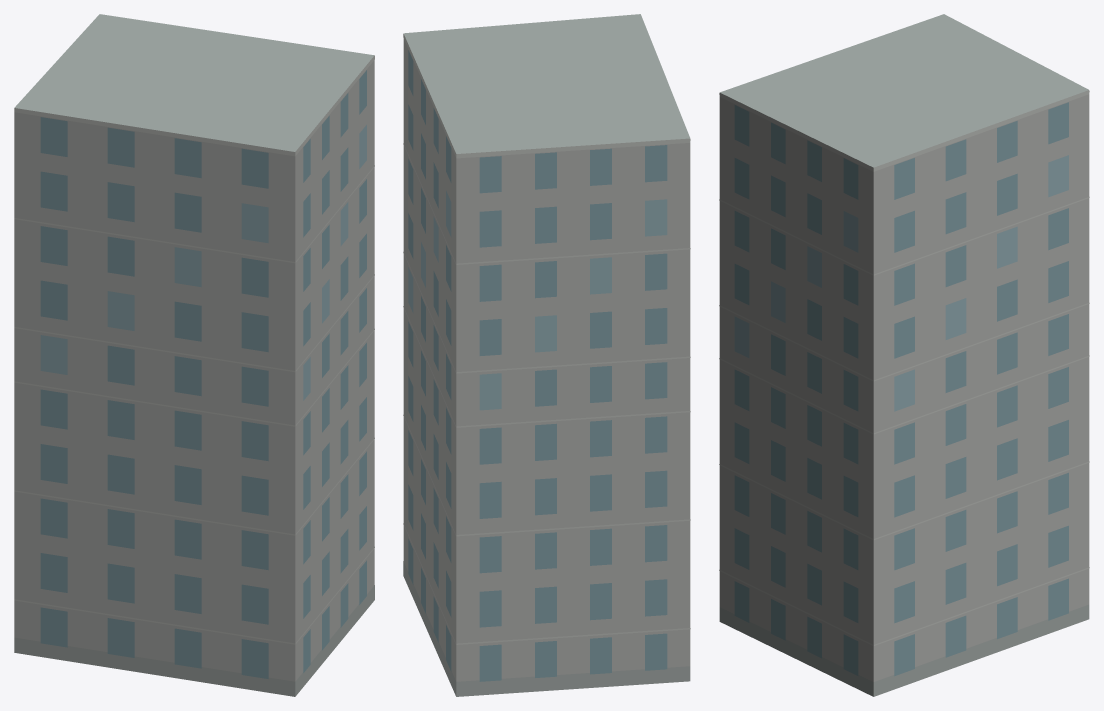
File: residential-e580abbd-2b59-40e0-ab97-8c15afb88cfb.glb
3 views of the same model, side by side, from view 1: azimuth 30°, elevation 25°; view 2: azimuth 150°, elevation 25°; view 3: azimuth 270°, elevation 25° (orthographic). The views are drawn at different scales.
Parts seen in each view (by area): view 1: residential-e580abbd-2b59-40e0-ab97-8c15afb88cfb.tmp; view 2: residential-e580abbd-2b59-40e0-ab97-8c15afb88cfb.tmp; view 3: residential-e580abbd-2b59-40e0-ab97-8c15afb88cfb.tmp.
Part boxes in pixels (x1=…): residential-e580abbd-2b59-40e0-ab97-8c15afb88cfb.tmp: x1=14, y1=14, x2=374, y2=696; residential-e580abbd-2b59-40e0-ab97-8c15afb88cfb.tmp: x1=403, y1=14, x2=690, y2=696; residential-e580abbd-2b59-40e0-ab97-8c15afb88cfb.tmp: x1=719, y1=14, x2=1089, y2=696.
Size of the model in its own units: 19.02 by 30.5 by 19.34.
